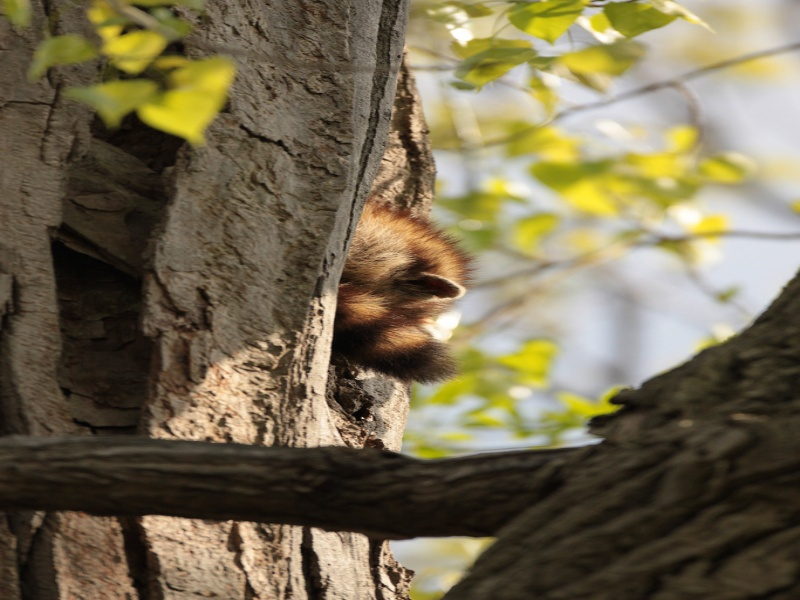raccoon: (312, 173, 465, 410)
